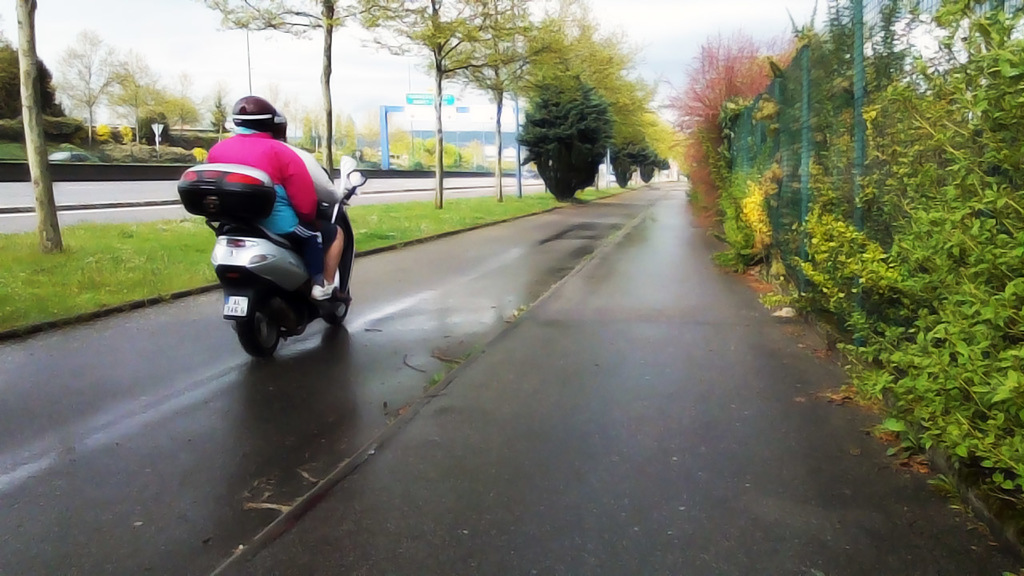Motorcycle: (176, 156, 360, 360)
